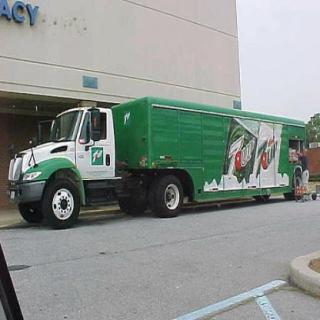Normal_vehicle: (8, 90, 308, 225)
